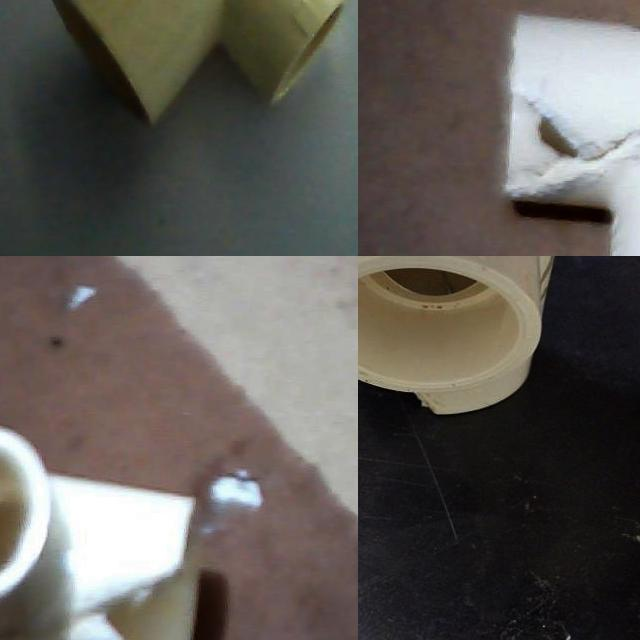Defective: (36, 569, 201, 640)
T Joint: (0, 428, 202, 640), (50, 0, 349, 130), (506, 14, 640, 256)
